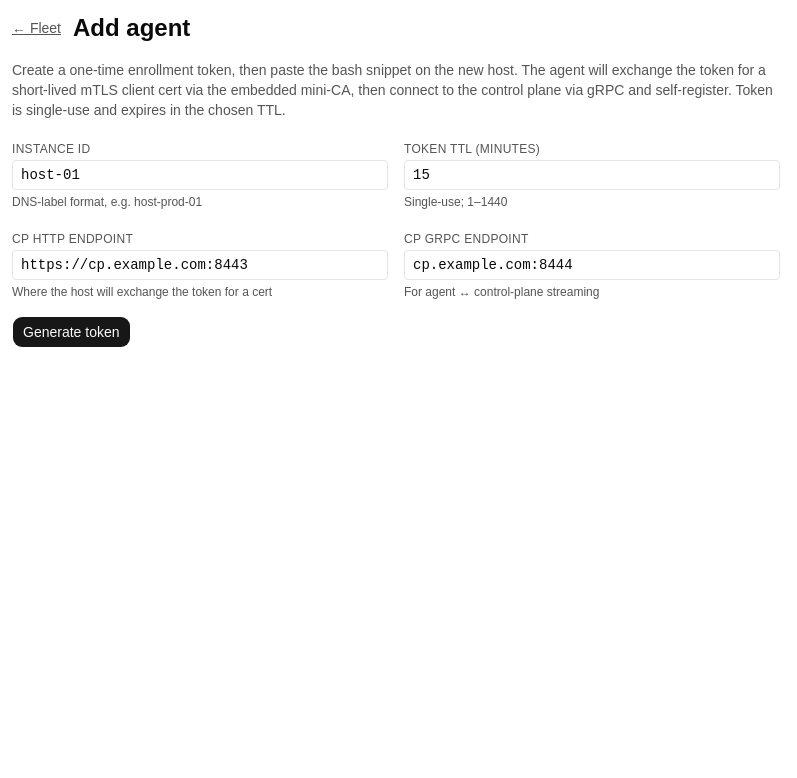
Test: AddAgentPage › creates a token and shows the bash + compose snippets
The image size is (797, 778).
Click the button "Generate token".
click(71, 332)  # box [12,316,130,348]
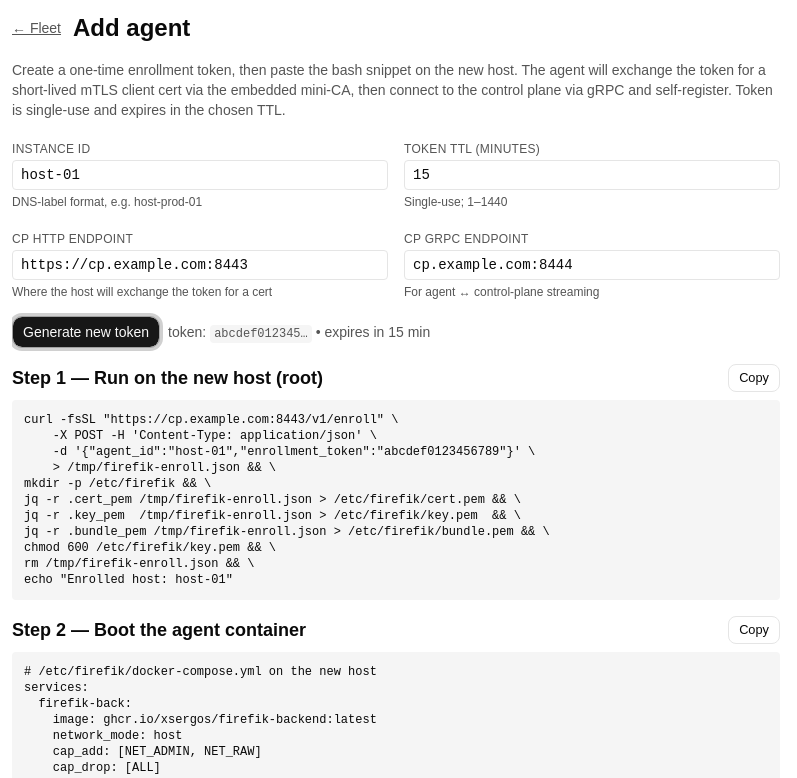
expect the heading "Step 1 — Run on the new host (root)" is shown: met, box [12,364,323,392]
expect the heading "Step 2 — Boot the agent container" is shown: met, box [12,616,306,644]
expect the text "token: abcdef012345… • expires in 15 min" is shown: met, box [168,322,430,342]
